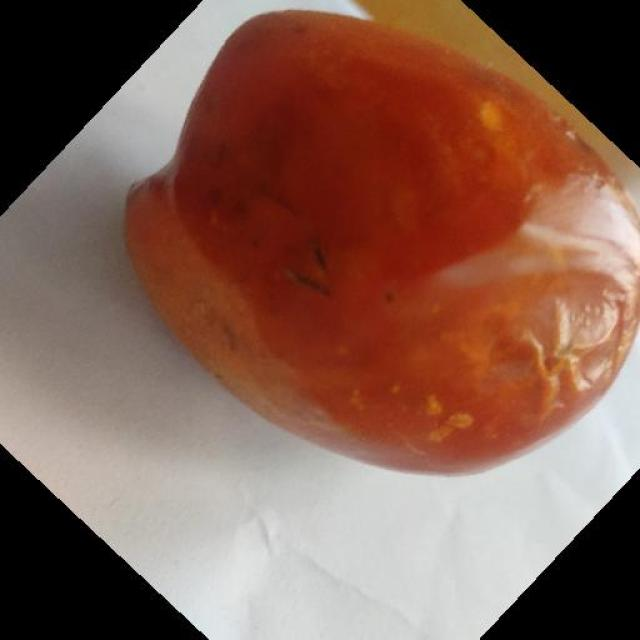Stale_tomato: (144, 48, 631, 470)
